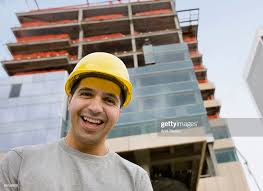Person_wearing_helmet: (59, 51, 134, 101)
